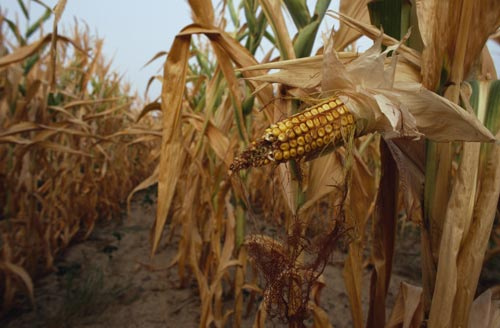corn: (226, 95, 363, 171)
